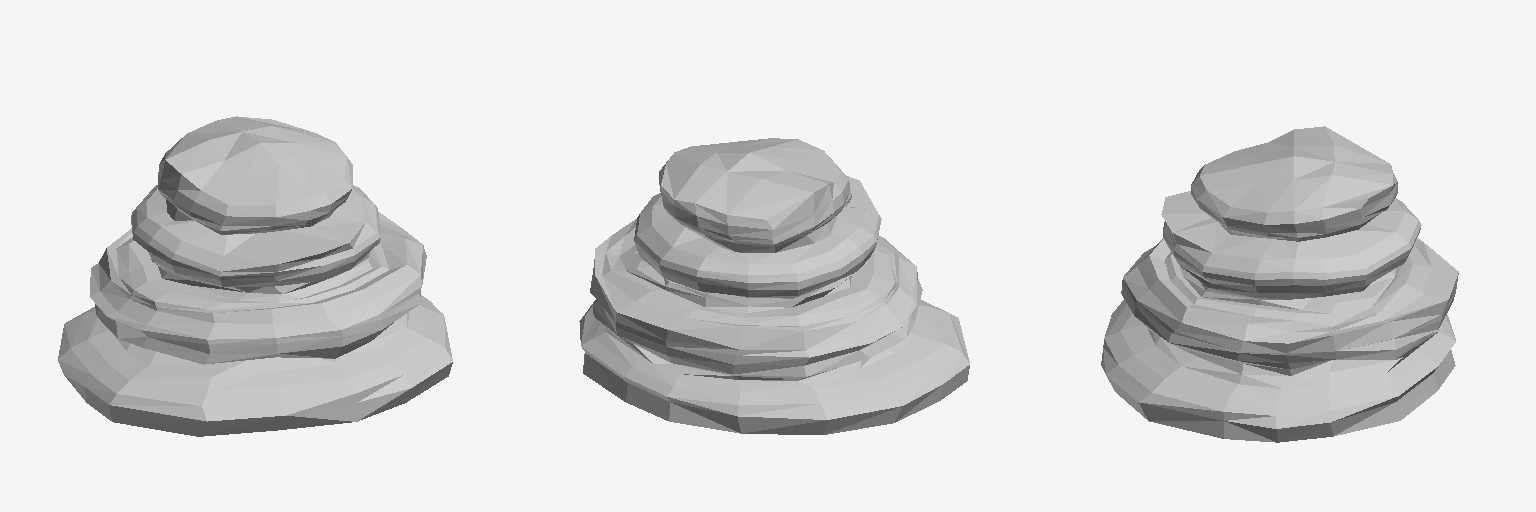
The model's file is wavyrock.obj.
3 renders of one model, left to right at view 1: azimuth 30°, elevation 25°; view 2: azimuth 150°, elevation 25°; view 3: azimuth 270°, elevation 25°, orthographic.
Visible parts, largest first — view 1: pCube2; view 2: pCube2; view 3: pCube2.
Part boxes in pixels (x1,y1,x2,y2): pCube2: (58, 116, 452, 436); pCube2: (579, 138, 969, 434); pCube2: (1101, 126, 1458, 442).
Bounding box in the file's own units: 24.73 × 14.28 × 21.96.